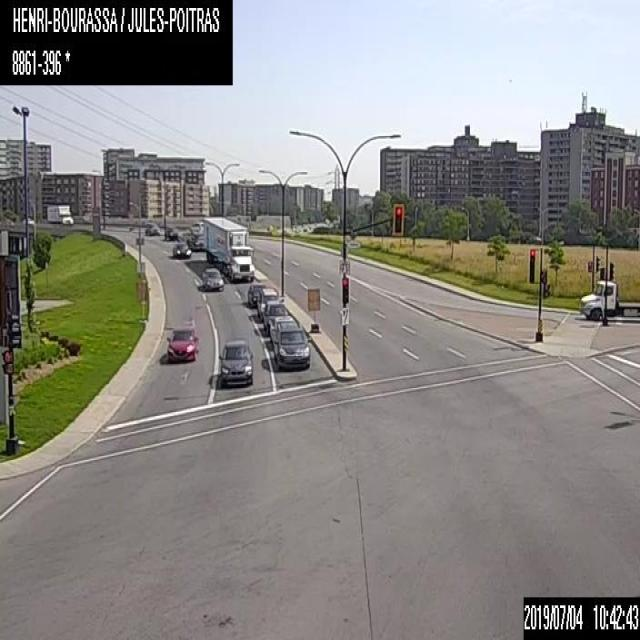vehicle: (203, 216, 254, 280), (579, 279, 639, 320), (217, 339, 253, 385), (275, 327, 311, 369), (166, 326, 198, 362), (267, 314, 296, 349), (256, 287, 283, 320), (261, 300, 287, 334), (45, 204, 73, 223), (202, 266, 224, 290), (246, 282, 267, 306), (186, 224, 204, 250), (172, 242, 191, 258), (163, 226, 180, 240), (144, 221, 160, 235), (21, 216, 33, 224)
